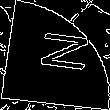N_W: (23, 32, 87, 78)
